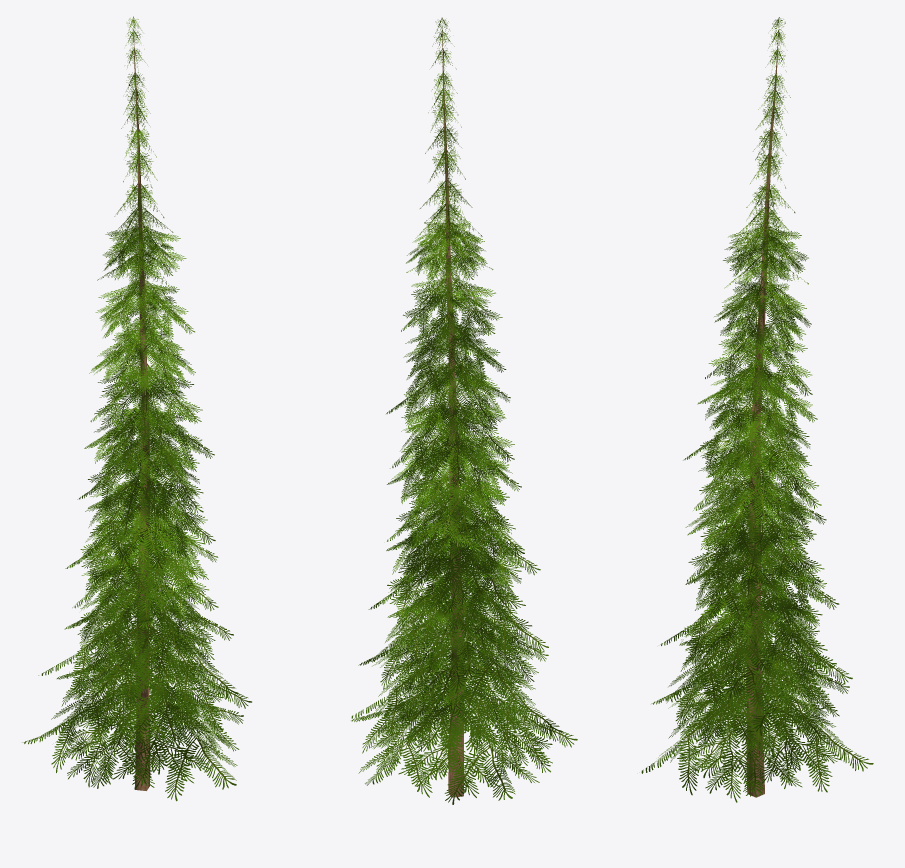
File: spruce_trees.004.glb
3 renders of one model, left to right at view 1: azimuth 30°, elevation 25°; view 2: azimuth 150°, elevation 25°; view 3: azimuth 270°, elevation 25°, orthographic. The views are drawn at different scales.
Visible parts, largest first — view 1: spruce_trees.004; view 2: spruce_trees.004; view 3: spruce_trees.004.
Boxes of the visible parts, x1,y1,x2,y2 form: spruce_trees.004: (22, 16, 251, 801); spruce_trees.004: (351, 17, 577, 804); spruce_trees.004: (641, 17, 873, 802).
Bounding box in the file's own units: 6.08 × 19.32 × 6.03.
Materials: 1 (1 with a texture image).
